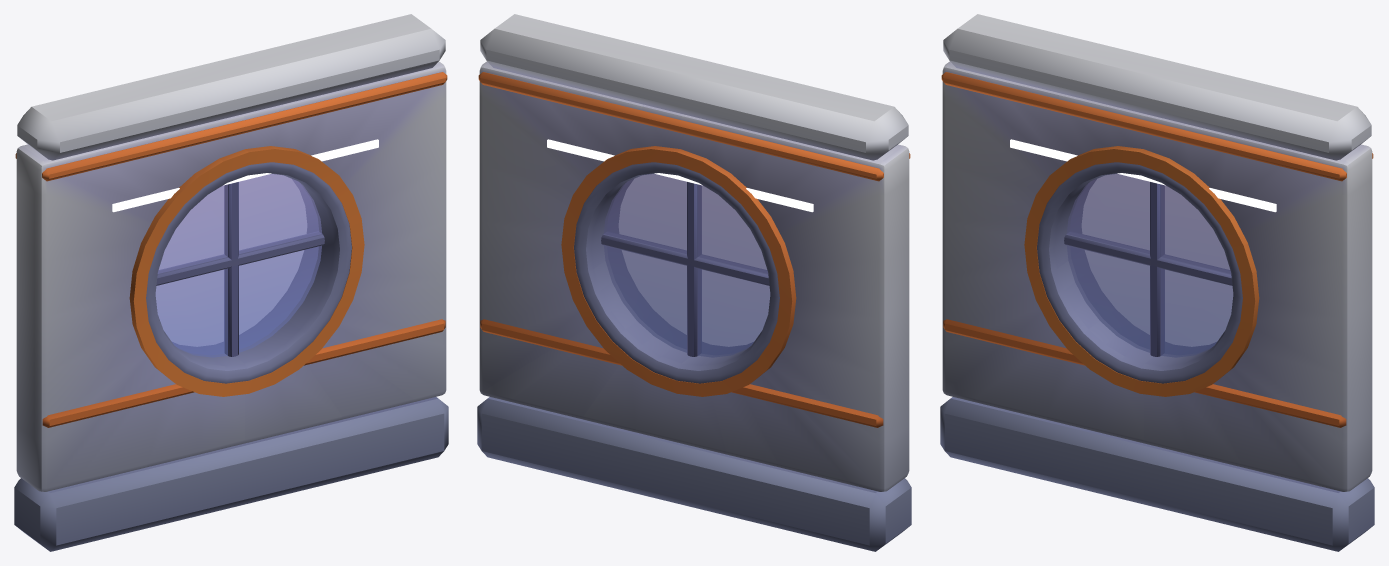
Rendered from hub_ruin_wall_window.glb.
3 renders of one model, left to right at view 1: azimuth 30°, elevation 25°; view 2: azimuth 150°, elevation 25°; view 3: azimuth 330°, elevation 25°, orthographic.
Parts seen in each view (by area): view 1: hub_ruin_wall_window; view 2: hub_ruin_wall_window; view 3: hub_ruin_wall_window.
Boxes of the visible parts, left/top/right/bottom form: hub_ruin_wall_window: left=14, top=14, right=448, bottom=551; hub_ruin_wall_window: left=477, top=14, right=911, bottom=551; hub_ruin_wall_window: left=940, top=14, right=1374, bottom=551.
Bounding box in the file's own units: 4 × 4 × 0.64.
